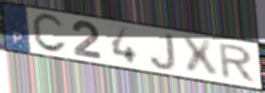2: (71, 20, 104, 62)
4: (110, 25, 141, 66)
C: (30, 13, 69, 55)
J: (149, 32, 178, 72)
R: (218, 42, 257, 84)
X: (178, 35, 221, 79)
